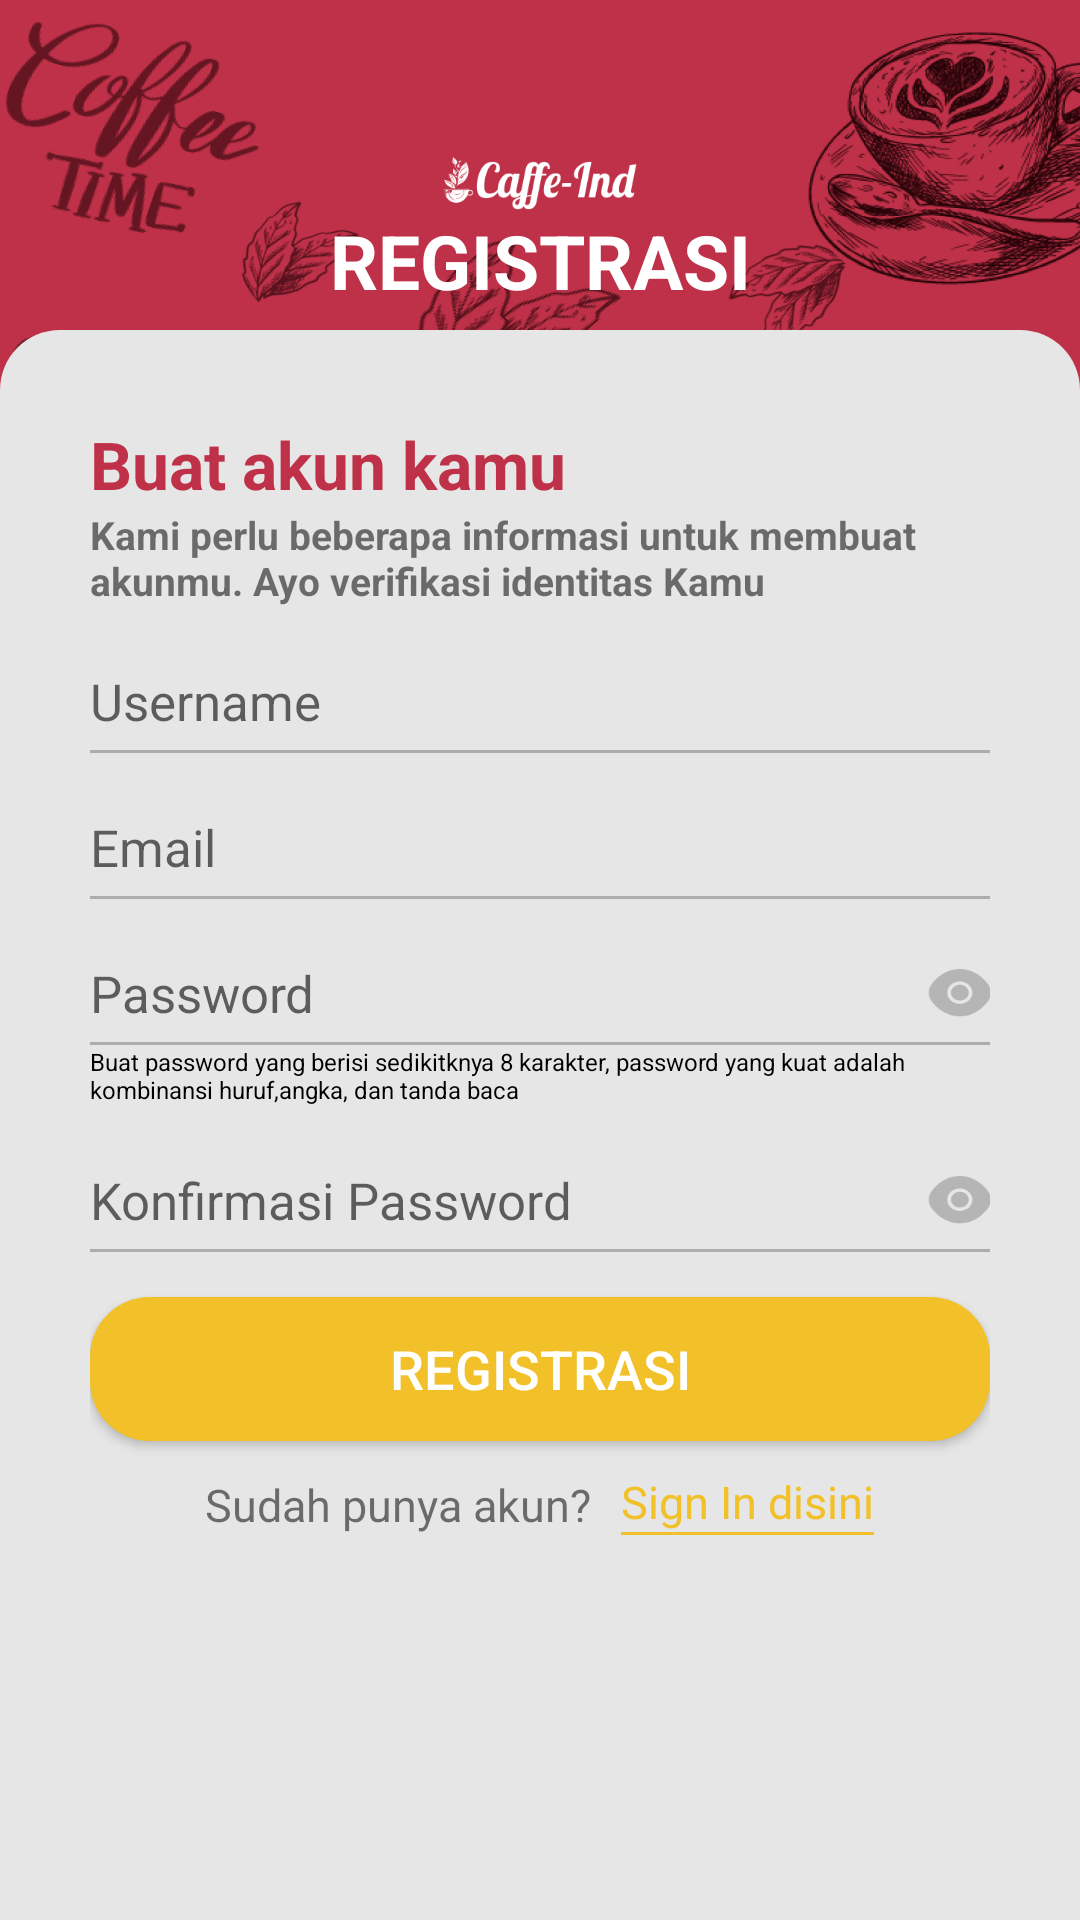

Icon click points for this 1080 x 1920 phone screenshot, format (x=x, y=y):
visible: (x=959, y=992), (x=959, y=1199)
